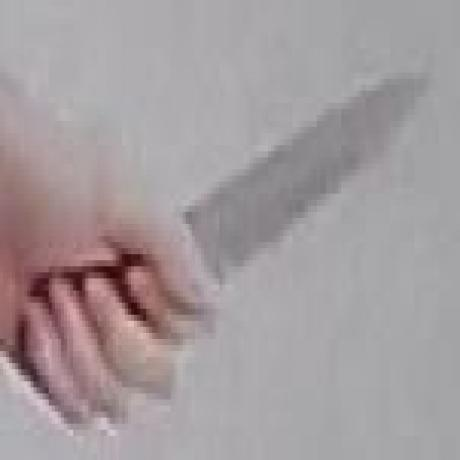1: (1, 60, 214, 442)
weapon: (202, 58, 430, 302)
